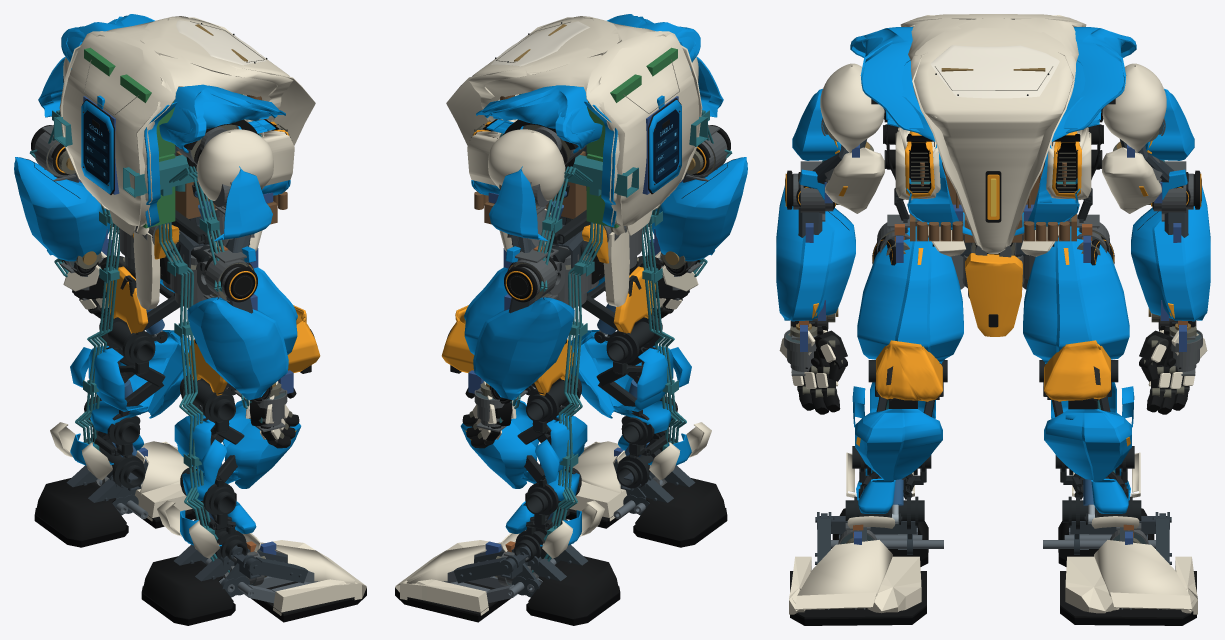
Rendered from internal_structure_d.glb.
3 views of the same model, side by side, from view 1: azimuth 30°, elevation 25°; view 2: azimuth 150°, elevation 25°; view 3: azimuth 270°, elevation 25° (orthographic). The views are drawn at different scales.
Parts seen in each view (by area): view 1: continuous_ivory_torso_armor_cover, right_blue_forearm_wrap, left_blue_forearm_wrap, right_ivory_hood_window_side_lip, right_composite_high_heel_shell, left_composite_high_heel_shell, right_ivory_shoulder_cap, right_blue_middle_shank_wrap, left_blue_middle_rear_guard_candidate, right_blue_deltoid_wrap, left_blue_middle_shank_wrap, right_blue_continuous_shoulder_sweep (+46 smaller); view 2: continuous_ivory_torso_armor_cover, left_blue_forearm_wrap, right_blue_forearm_wrap, left_ivory_hood_window_side_lip, left_composite_high_heel_shell, right_composite_high_heel_shell, left_ivory_shoulder_cap, left_blue_middle_shank_wrap, right_blue_middle_rear_guard_candidate, left_blue_deltoid_wrap, right_blue_middle_shank_wrap, left_blue_continuous_shoulder_sweep (+47 smaller); view 3: continuous_ivory_torso_armor_cover, left_blue_thigh_wrap, right_blue_thigh_wrap, left_blue_forearm_wrap, right_blue_forearm_wrap, ivory_crown_inset, left_blue_middle_shank_wrap, right_blue_middle_shank_wrap, saffron_front_pelvis_cartridge, left_ivory_artwork_sloping_toe, right_ivory_artwork_sloping_toe, left_ivory_shoulder_cap (+41 smaller).
Part boxes in pixels (x1,y1,x2,y2): continuous_ivory_torso_armor_cover: (63,16,293,226); right_blue_forearm_wrap: (187,297,288,400); left_blue_forearm_wrap: (14,157,110,261); right_ivory_hood_window_side_lip: (136,53,315,235); right_composite_high_heel_shell: (142,556,233,618); left_composite_high_heel_shell: (35,478,126,540); right_ivory_shoulder_cap: (196,129,273,200); right_blue_middle_shank_wrap: (222,400,301,488); left_blue_middle_rear_guard_candidate: (88,345,148,433); right_blue_deltoid_wrap: (214,166,272,240); left_blue_middle_shank_wrap: (120,330,190,418); right_blue_continuous_shoulder_sweep: (182,88,285,153); continuous_ivory_torso_armor_cover: (468,16,698,226); left_blue_forearm_wrap: (473,297,574,400); right_blue_forearm_wrap: (651,157,747,261); left_ivory_hood_window_side_lip: (446,53,625,235); left_composite_high_heel_shell: (528,556,619,618); right_composite_high_heel_shell: (635,478,726,540); left_ivory_shoulder_cap: (488,129,565,200); left_blue_middle_shank_wrap: (460,400,539,488); right_blue_middle_rear_guard_candidate: (613,345,673,433); left_blue_deltoid_wrap: (489,166,547,240); right_blue_middle_shank_wrap: (571,330,641,418); left_blue_continuous_shoulder_sweep: (476,88,579,153); continuous_ivory_torso_armor_cover: (900,14,1086,253); left_blue_thigh_wrap: (1023,226,1129,363); right_blue_thigh_wrap: (857,226,963,363); left_blue_forearm_wrap: (1131,186,1210,321); right_blue_forearm_wrap: (776,186,855,321); ivory_crown_inset: (930,45,1059,98); left_blue_middle_shank_wrap: (1044,409,1131,480); right_blue_middle_shank_wrap: (855,409,942,480); saffron_front_pelvis_cartridge: (965,253,1022,336); left_ivory_artwork_sloping_toe: (1094,540,1189,596); right_ivory_artwork_sloping_toe: (797,540,892,596); left_ivory_shoulder_cap: (1102,63,1166,152).
Size of the model in its own units: 1.07 by 2.65 by 1.93.
